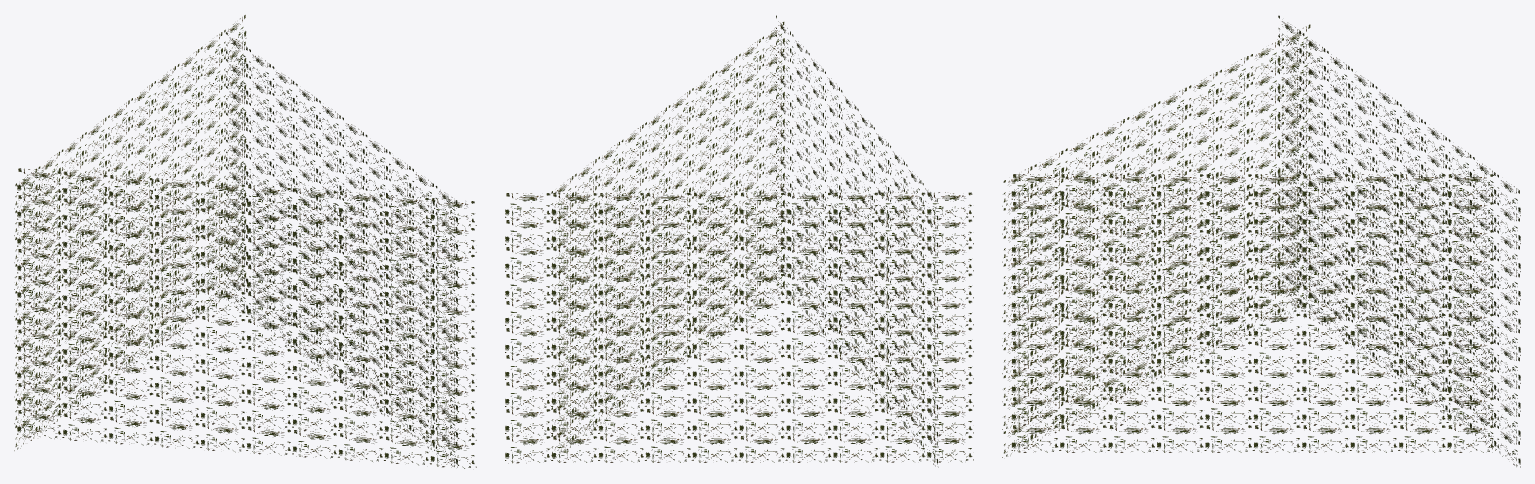
The model's file is Grass2.fbx.
The picture shows the model from 3 angles, left to right: view 1: azimuth 30°, elevation 25°; view 2: azimuth 150°, elevation 25°; view 3: azimuth 270°, elevation 25°; orthographic projection. The views are drawn at different scales.
Parts seen in each view (by area): view 1: Plane.004; view 2: Plane.004; view 3: Plane.004.
Part boxes in pixels (x1,y1,x2,y2): Plane.004: (14, 15, 476, 468); Plane.004: (505, 15, 973, 467); Plane.004: (1002, 15, 1520, 467).
Bounding box in the file's own units: 173 × 127 × 214.
Materials: 1 (1 with a texture image).
